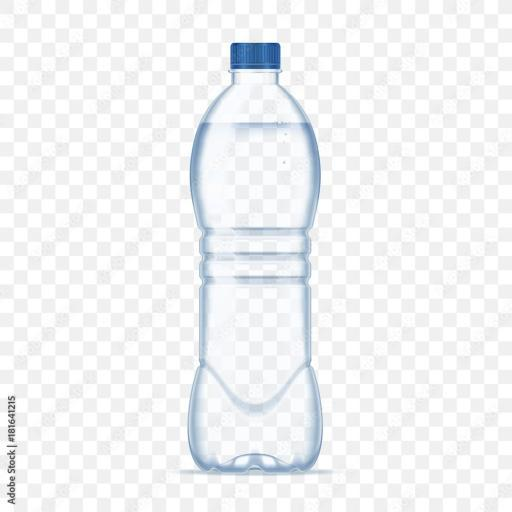bottle: (178, 34, 332, 484)
